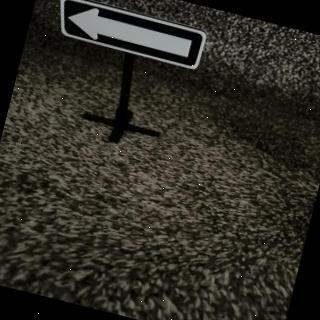sign_oneway_left: (52, 1, 209, 73)
